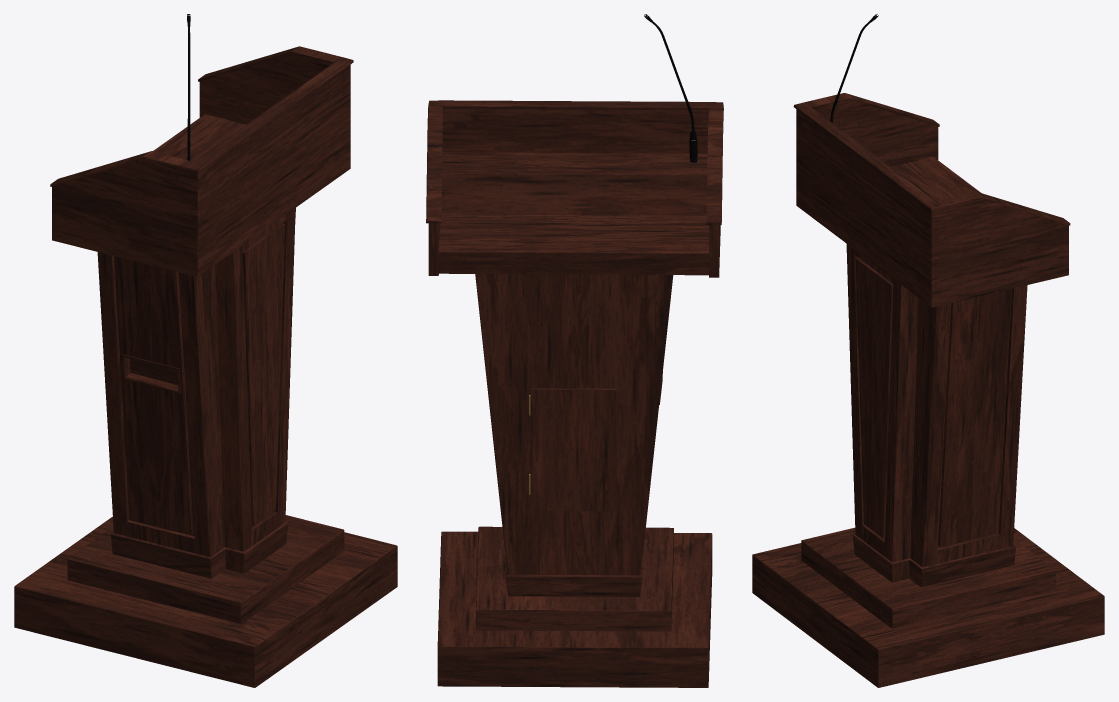
File: podiumModel.glb
3 views of the same model, side by side, from view 1: azimuth 30°, elevation 25°; view 2: azimuth 150°, elevation 25°; view 3: azimuth 270°, elevation 25° (orthographic). The views are drawn at different scales.
Parts seen in each view (by area): view 1: Object_4; view 2: Object_4, Object_5; view 3: Object_4.
Boxes of the visible parts, box(x1,y1,x2,y2) form: Object_4: box(14, 46, 397, 687); Object_4: box(426, 100, 723, 687); Object_5: box(644, 14, 697, 162); Object_4: box(752, 93, 1104, 687).
Size of the model in its own units: 0.8134 by 1.48 by 0.8144.
5 materials, 2 textured.
